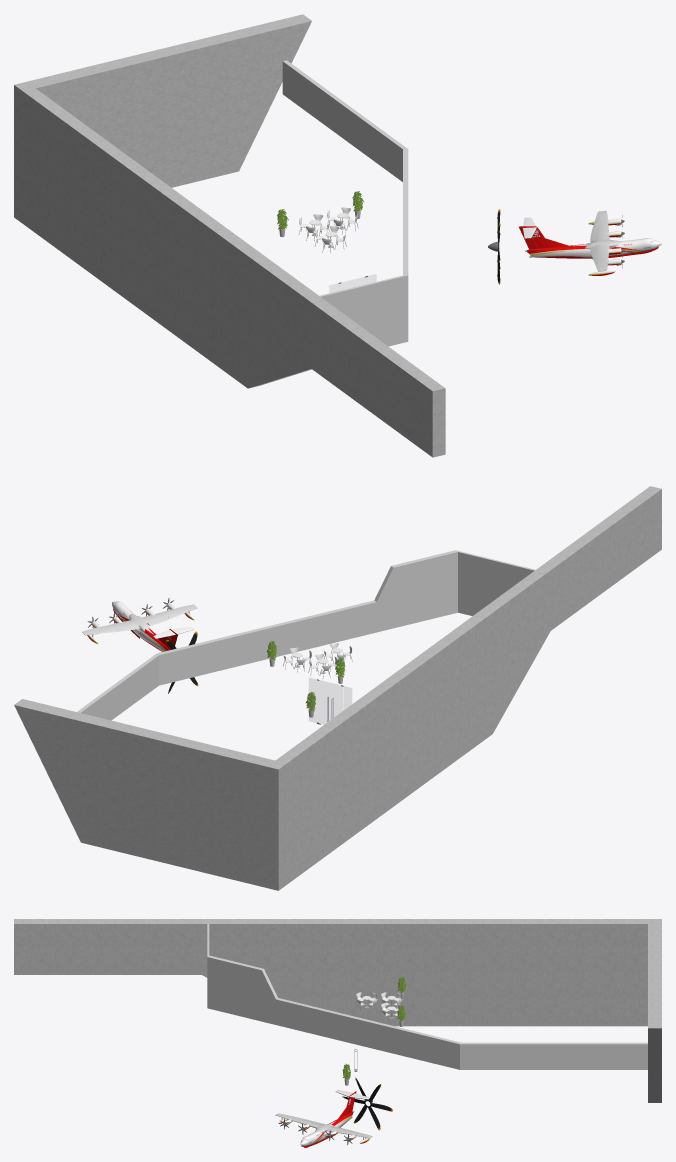
The model's file is chunk-007.gltf.
The picture shows the model from 3 angles, top to bottom: view 1: azimuth 30°, elevation 25°; view 2: azimuth 150°, elevation 25°; view 3: azimuth 270°, elevation 25°; orthographic projection. The views are drawn at different scales.
Parts seen in each view (by area): view 1: ue_9610C81F-4EDF-3C77-1054-B49FD7C2FE22, ue_E0CAC926-420E-58B0-ED9E-0CB0144125AA, ue_D13C99C6-4AEC-A431-08DD-88AEDF4184EC; view 2: ue_9610C81F-4EDF-3C77-1054-B49FD7C2FE22, ue_E0CAC926-420E-58B0-ED9E-0CB0144125AA, ue_D13C99C6-4AEC-A431-08DD-88AEDF4184EC, ue_08A33DC6-436B-6B61-E56A-D0BC210472CA; view 3: ue_9610C81F-4EDF-3C77-1054-B49FD7C2FE22, ue_E0CAC926-420E-58B0-ED9E-0CB0144125AA, ue_D13C99C6-4AEC-A431-08DD-88AEDF4184EC, ue_05988CE8-42F3-BB28-B049-4FA248B80260.
Boxes of the visible parts, x1,y1,x2,y2 form: ue_9610C81F-4EDF-3C77-1054-B49FD7C2FE22: (14,14,445,457); ue_E0CAC926-420E-58B0-ED9E-0CB0144125AA: (282,60,408,346); ue_D13C99C6-4AEC-A431-08DD-88AEDF4184EC: (519,210,661,275); ue_9610C81F-4EDF-3C77-1054-B49FD7C2FE22: (14,486,661,890); ue_E0CAC926-420E-58B0-ED9E-0CB0144125AA: (77,550,535,720); ue_D13C99C6-4AEC-A431-08DD-88AEDF4184EC: (82,598,197,651); ue_08A33DC6-436B-6B61-E56A-D0BC210472CA: (309,678,351,724); ue_9610C81F-4EDF-3C77-1054-B49FD7C2FE22: (14,919,661,1102); ue_E0CAC926-420E-58B0-ED9E-0CB0144125AA: (207,924,647,1069); ue_D13C99C6-4AEC-A431-08DD-88AEDF4184EC: (275,1090,372,1147); ue_05988CE8-42F3-BB28-B049-4FA248B80260: (342,1077,393,1130).
Size of the model in its own units: 26.19 by 8 by 45.8.
